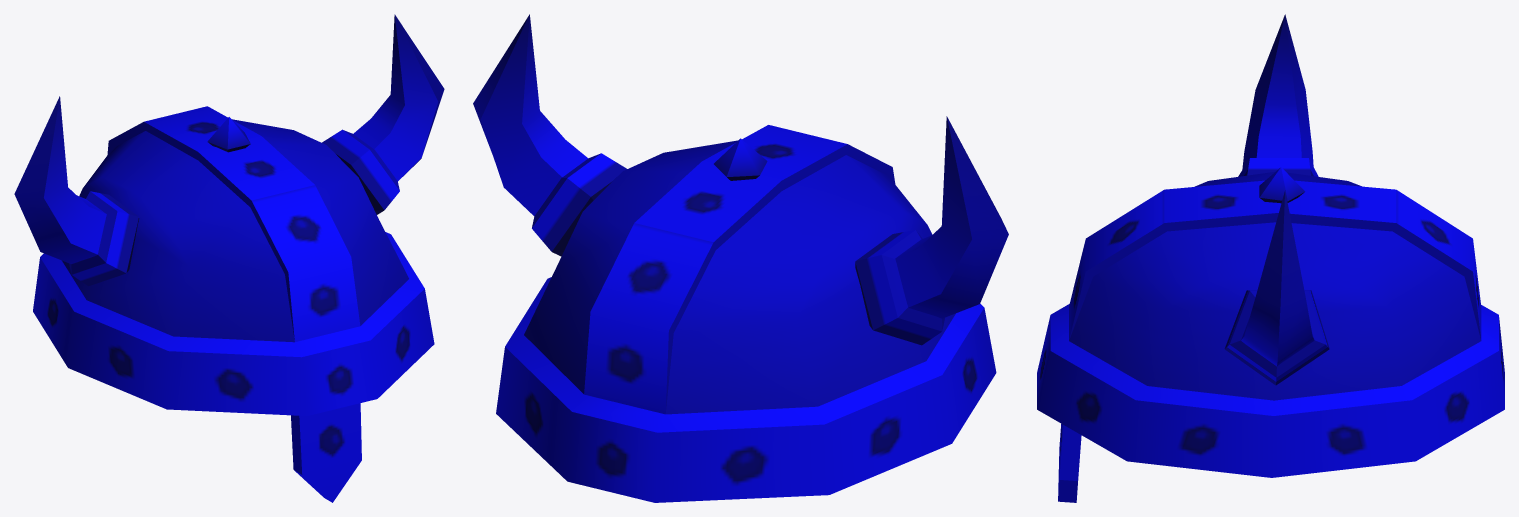
Rendered from HornedHelm_F.fbx.
3 renders of one model, left to right at view 1: azimuth 30°, elevation 25°; view 2: azimuth 150°, elevation 25°; view 3: azimuth 270°, elevation 25°, orthographic. The views are drawn at different scales.
Parts seen in each view (by area): view 1: HornedHelm_F; view 2: HornedHelm_F; view 3: HornedHelm_F.
Part boxes in pixels (<box>): HornedHelm_F: <box>14,14,444,502</box>; HornedHelm_F: <box>473,14,1008,502</box>; HornedHelm_F: <box>1037,14,1504,502</box>.
Bounding box in the file's own units: 36.72 × 30.36 × 32.1.
